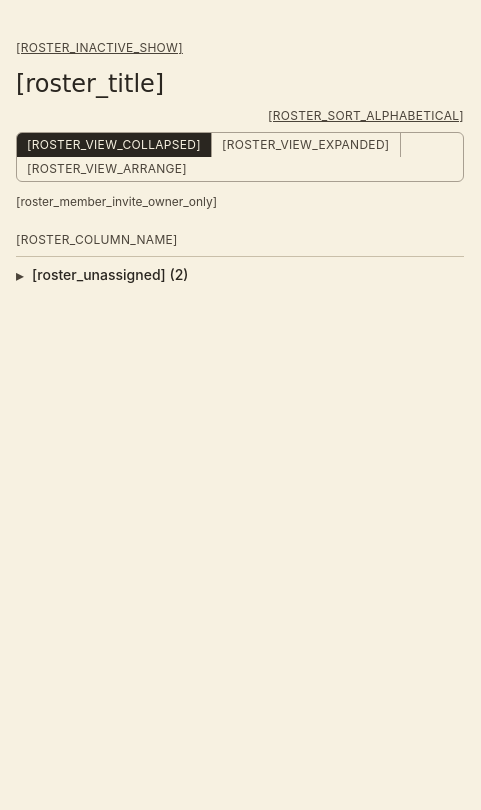
Test: (A/B) fail-LOUD — no lifecycle failure is allowed to be silent › a rejected RIGHTS READ surfaces a role=alert on that row (not just a console line)
Click the button with test id "section-toggle-unassigned".
click(110, 274)  # box [16,257,464,293]
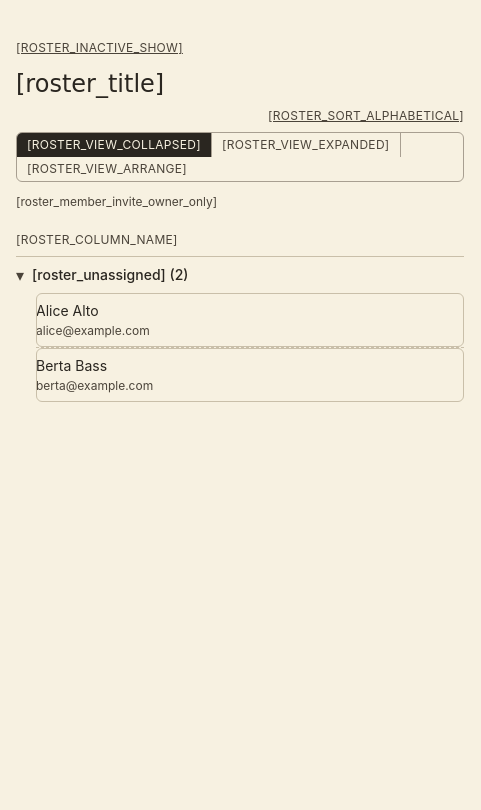
Now the list item with test id "roster-row-m2" is shown
Click the button without text next to "berta@example.com".
click(250, 375)  # box [36,348,464,402]
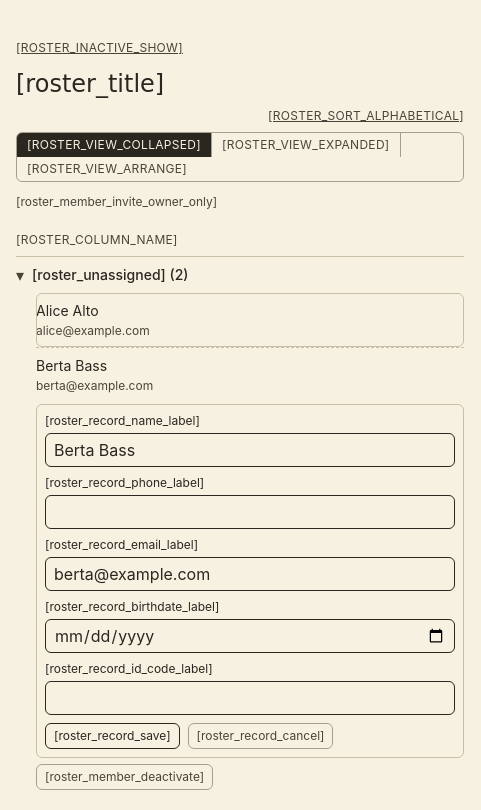
Now the field with test id "roster-record-name" is shown, box [45,433,455,467]
Click the button with test id "member-deactivate-m2".
click(125, 777)  # box [36,764,213,790]
(page scrolled)
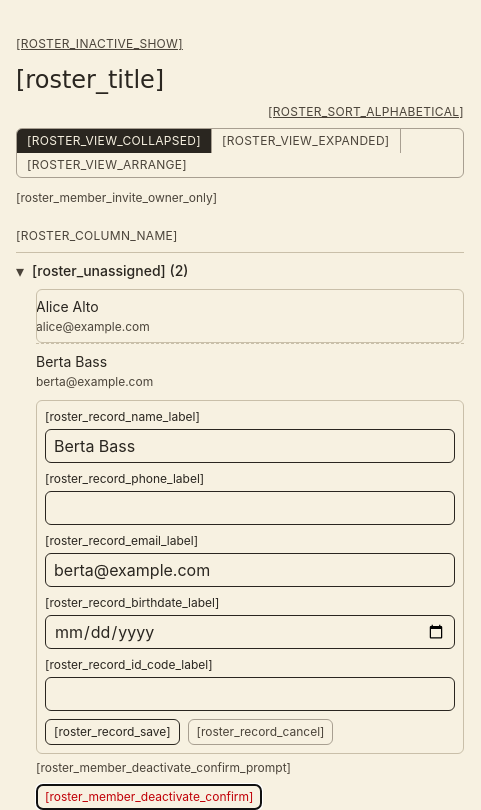
Now the button with test id "member-deactivate-confirm-m2" is shown
Click the button with test id "member-deactivate-confirm-m2".
click(149, 797)  # box [36,784,262,809]
(page scrolled)
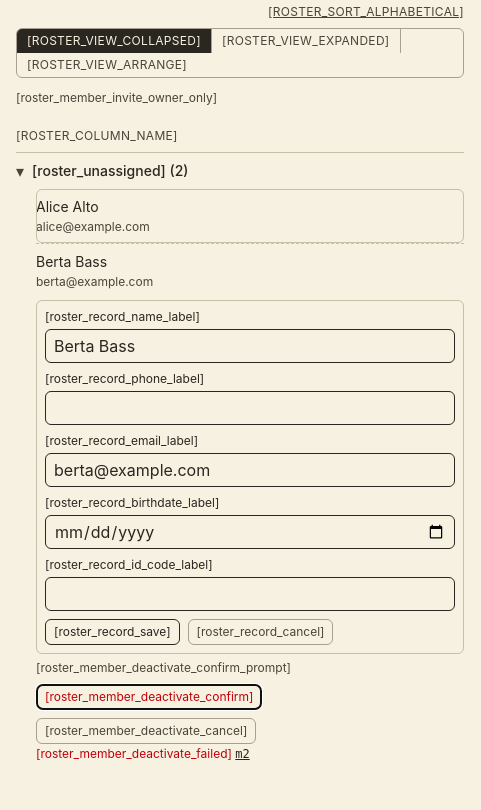
Now the message "[roster_member_deactivate_failed] m2" is shown, box [36,746,250,761]
Now the number of links is 1, box [235,747,250,761]
Now the link "m2" is shown, box [235,747,250,761]
